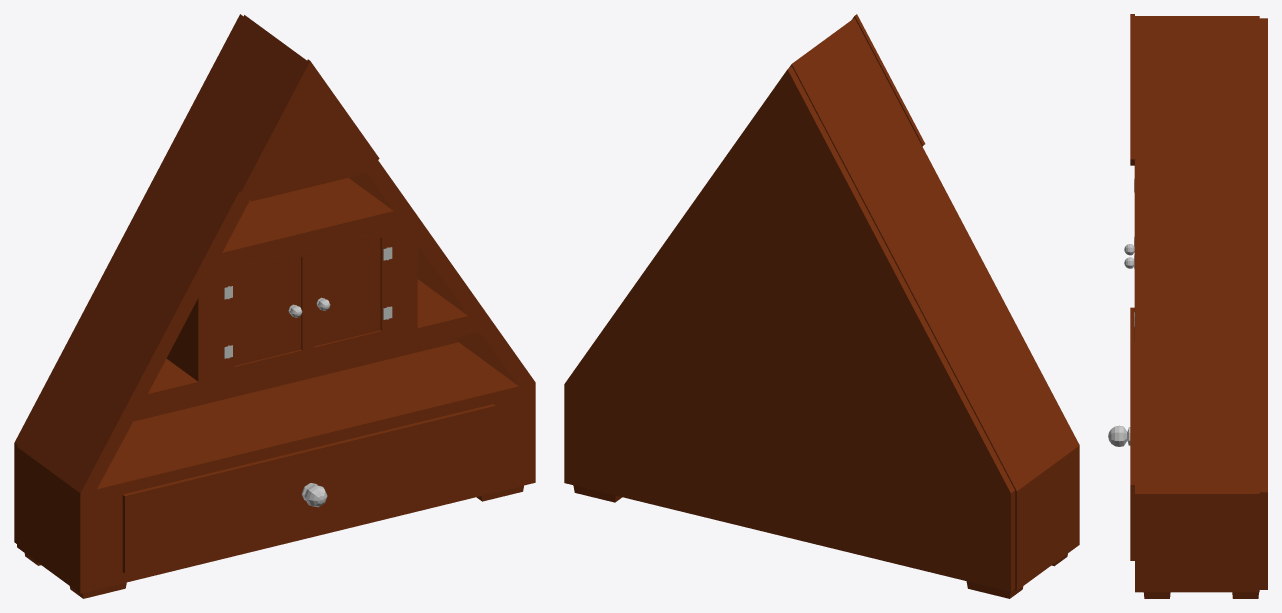
File: ArmarioTriangular.fbx
The picture shows the model from 3 angles, left to right: view 1: azimuth 30°, elevation 25°; view 2: azimuth 150°, elevation 25°; view 3: azimuth 270°, elevation 25°; orthographic projection. The views are drawn at different scales.
Parts seen in each view (by area): view 1: Armario; view 2: Armario; view 3: Armario.
Boxes of the visible parts, <box> form: Armario: <box>14,14,535,598</box>; Armario: <box>564,14,1079,598</box>; Armario: <box>1108,14,1267,598</box>.
Bounding box in the file's own units: 194 × 200 × 60.19.
